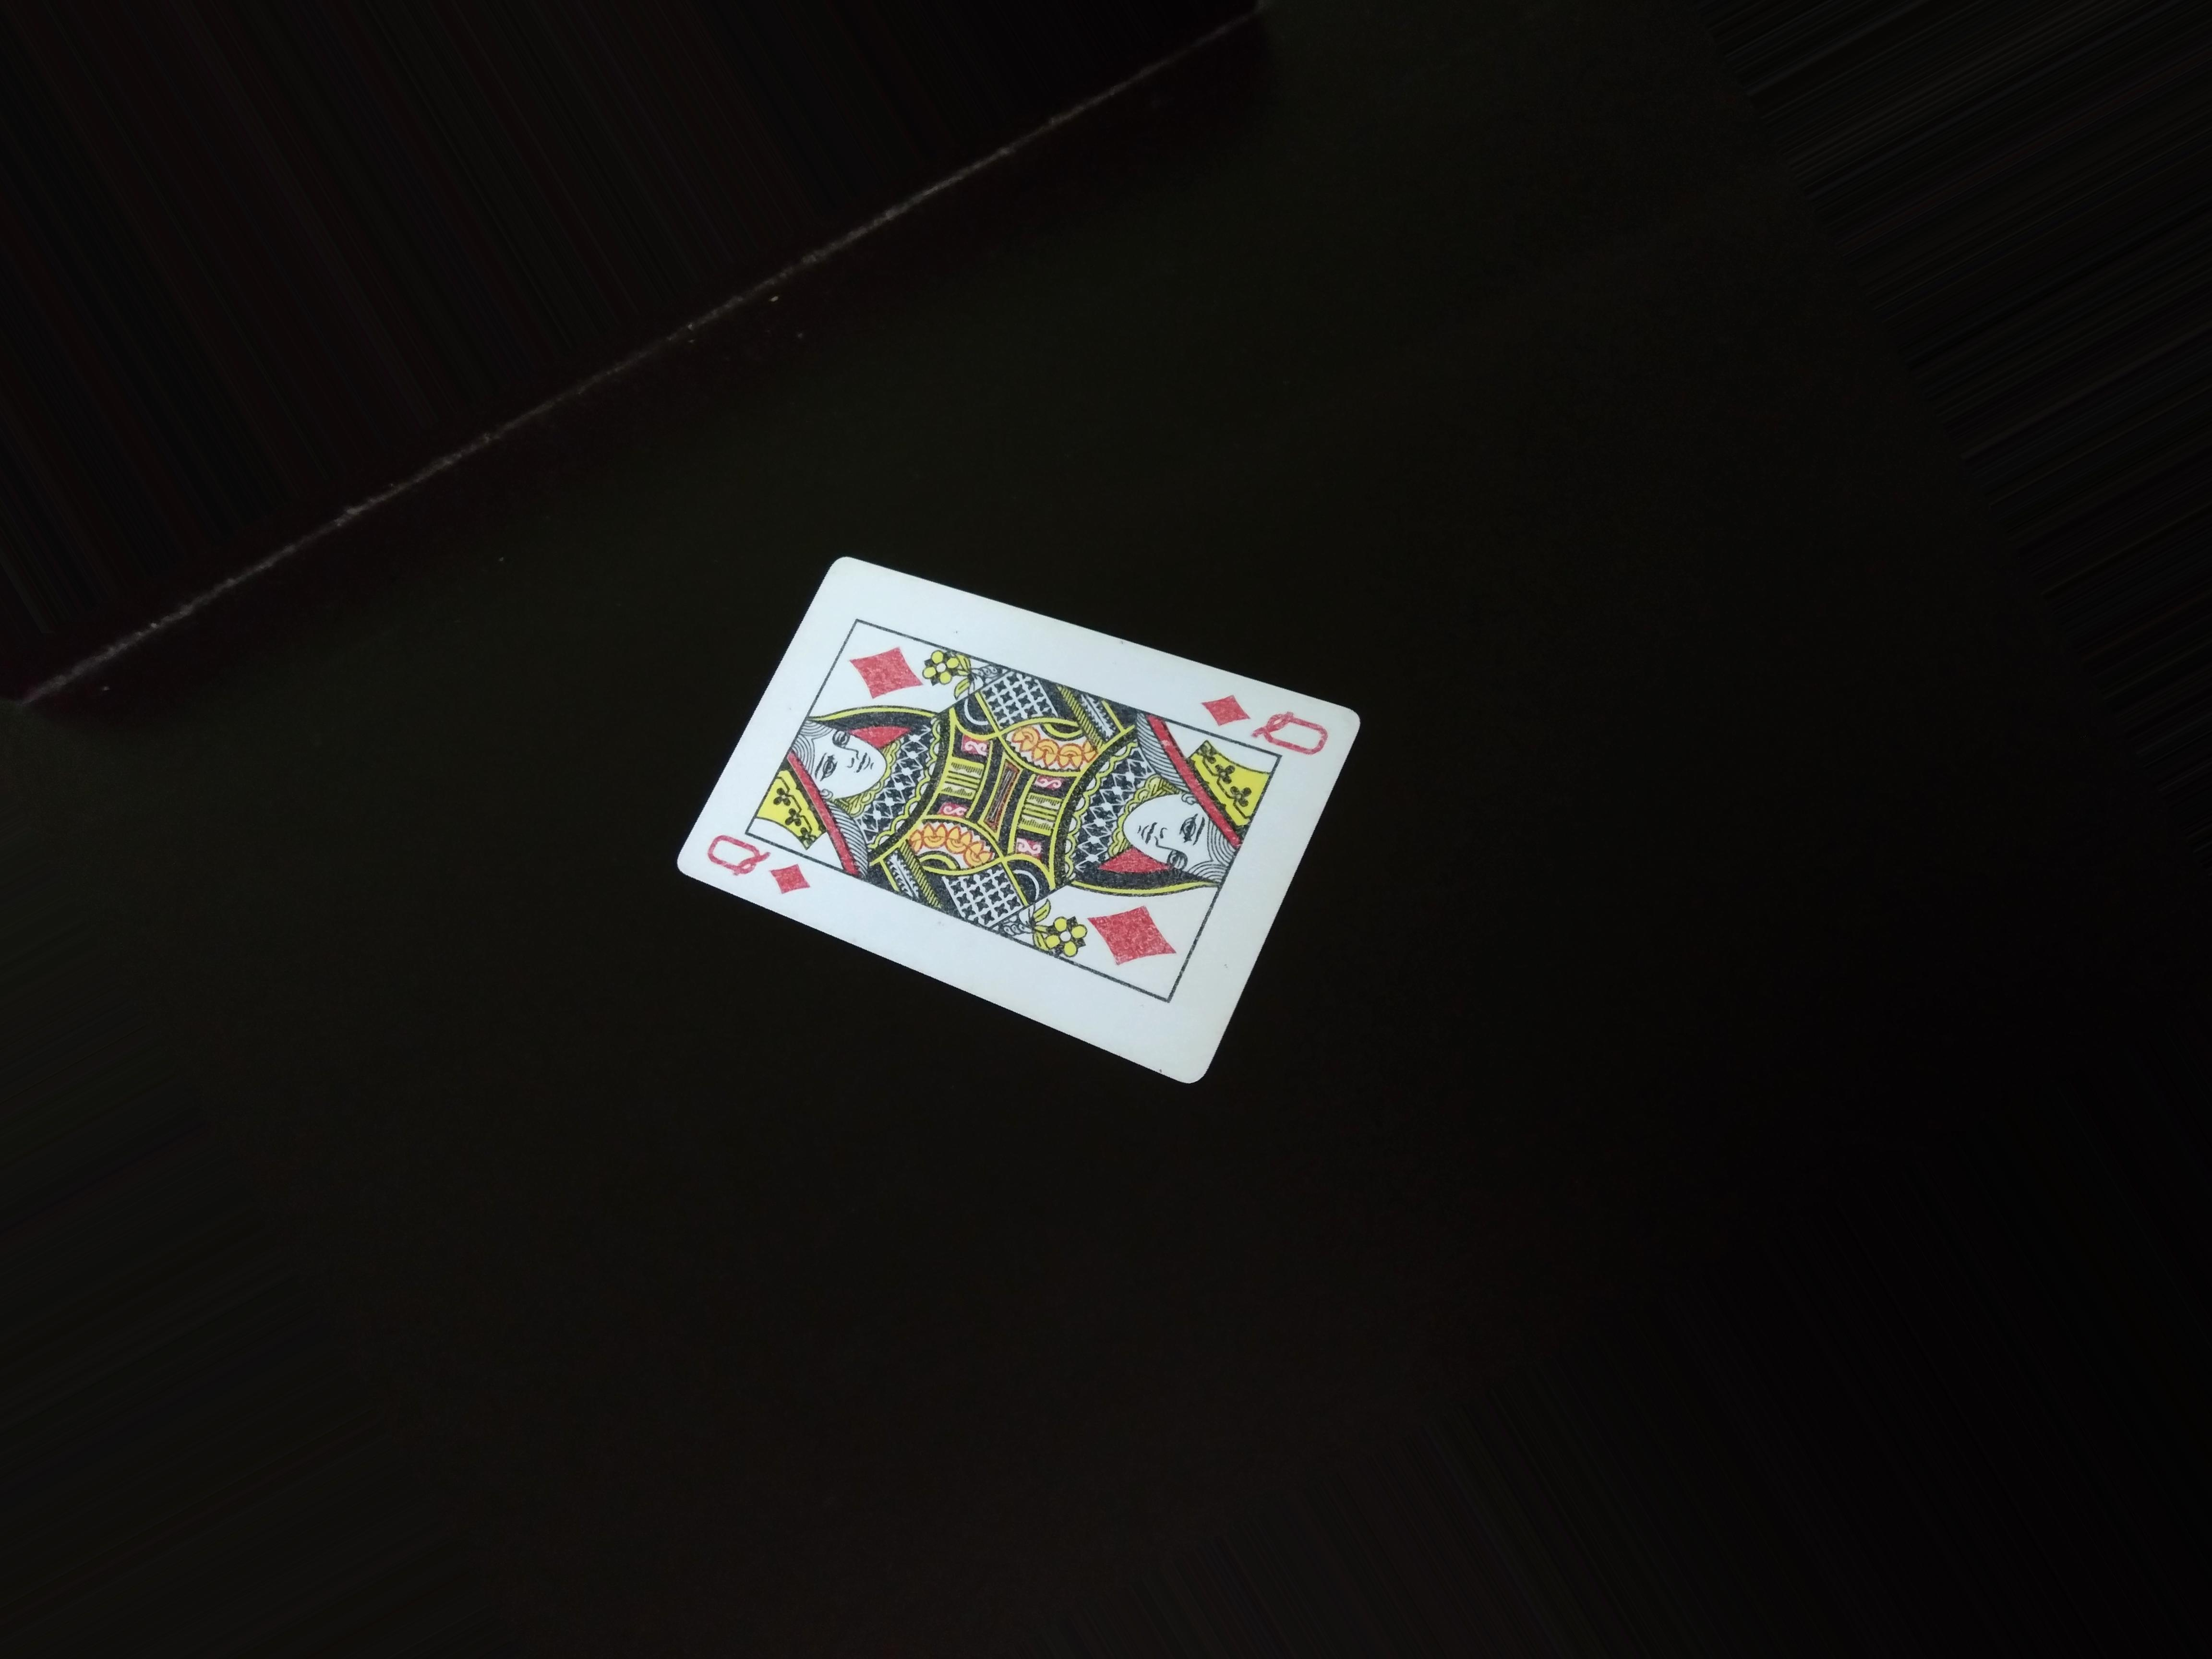QD: (690, 826, 826, 904)
